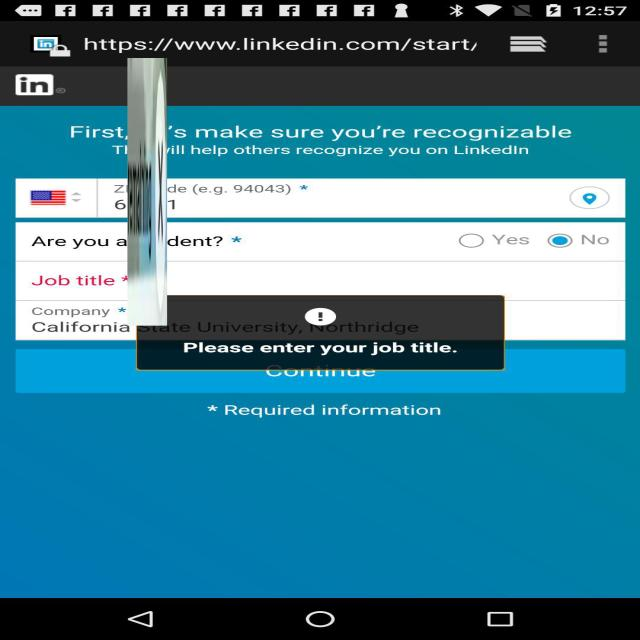misdirection: (128, 58, 167, 326)
